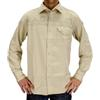abbigliamento_uomo: (8, 3, 93, 96)
